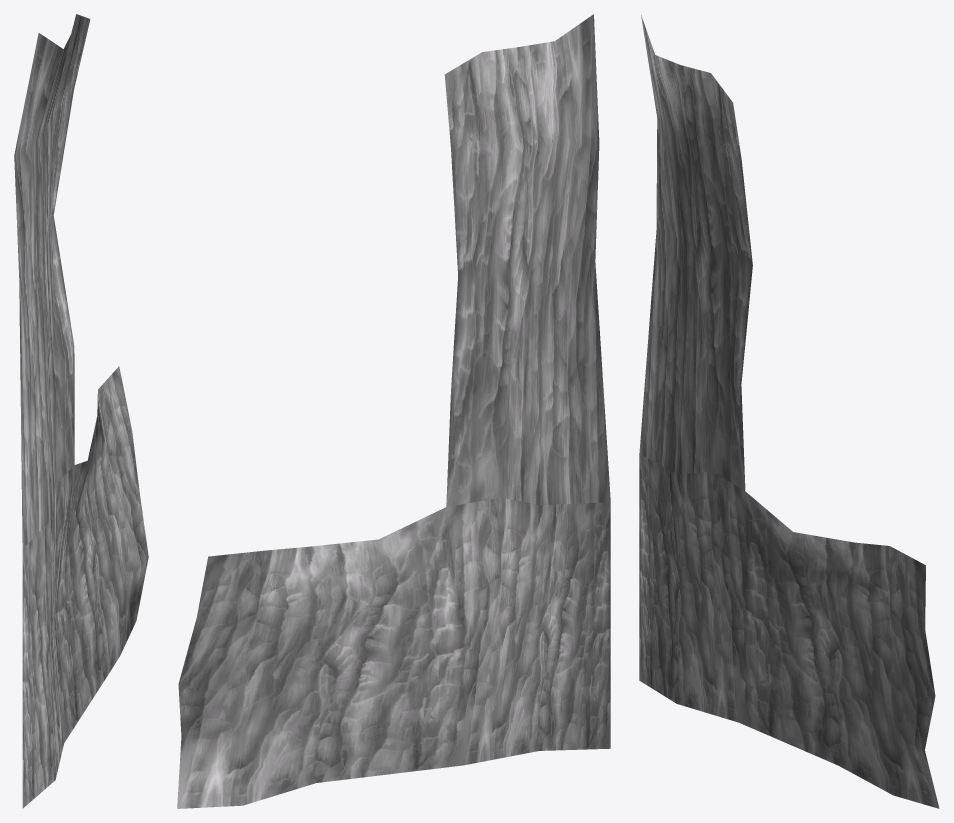
File: SWORDLIGHT20_PS-AREA03_190.fbx
3 renders of one model, left to right at view 1: azimuth 30°, elevation 25°; view 2: azimuth 150°, elevation 25°; view 3: azimuth 270°, elevation 25°, orthographic. The views are drawn at different scales.
Parts seen in each view (by area): view 1: SWORDLIGHT20_PS-AREA03_190; view 2: SWORDLIGHT20_PS-AREA03_190; view 3: SWORDLIGHT20_PS-AREA03_190.
Boxes of the visible parts, x1,y1,x2,y2 form: SWORDLIGHT20_PS-AREA03_190: (14, 14, 148, 808); SWORDLIGHT20_PS-AREA03_190: (177, 14, 610, 808); SWORDLIGHT20_PS-AREA03_190: (639, 15, 939, 808).
Size of the model in its own units: 58799 by 152216 by 60413.
1 material, 1 textured.
